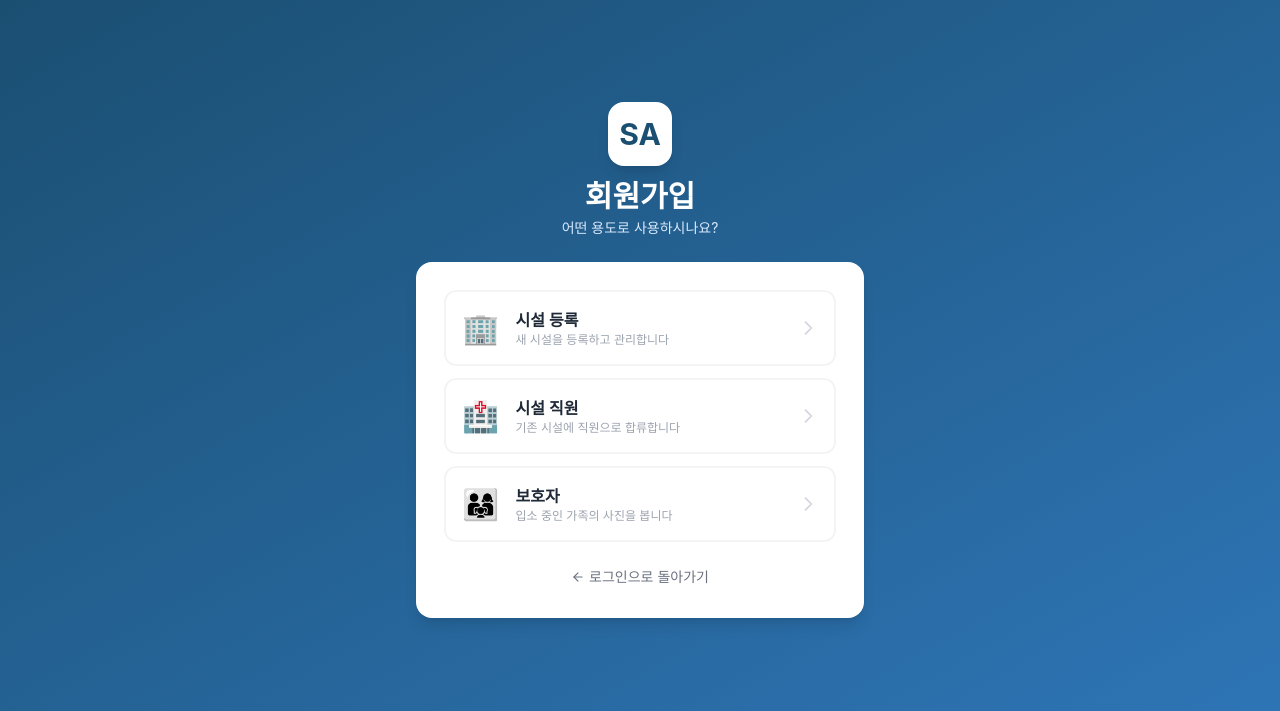
Test case: RegisterPage › Step 1 - 역할 선택 › 시설 등록 클릭 시 Step 2로 이동하며 시설 정보 폼이 나타난다
Click the text "시설 등록".
click(547, 320)  # box x1=515 y1=310 x2=578 y2=330
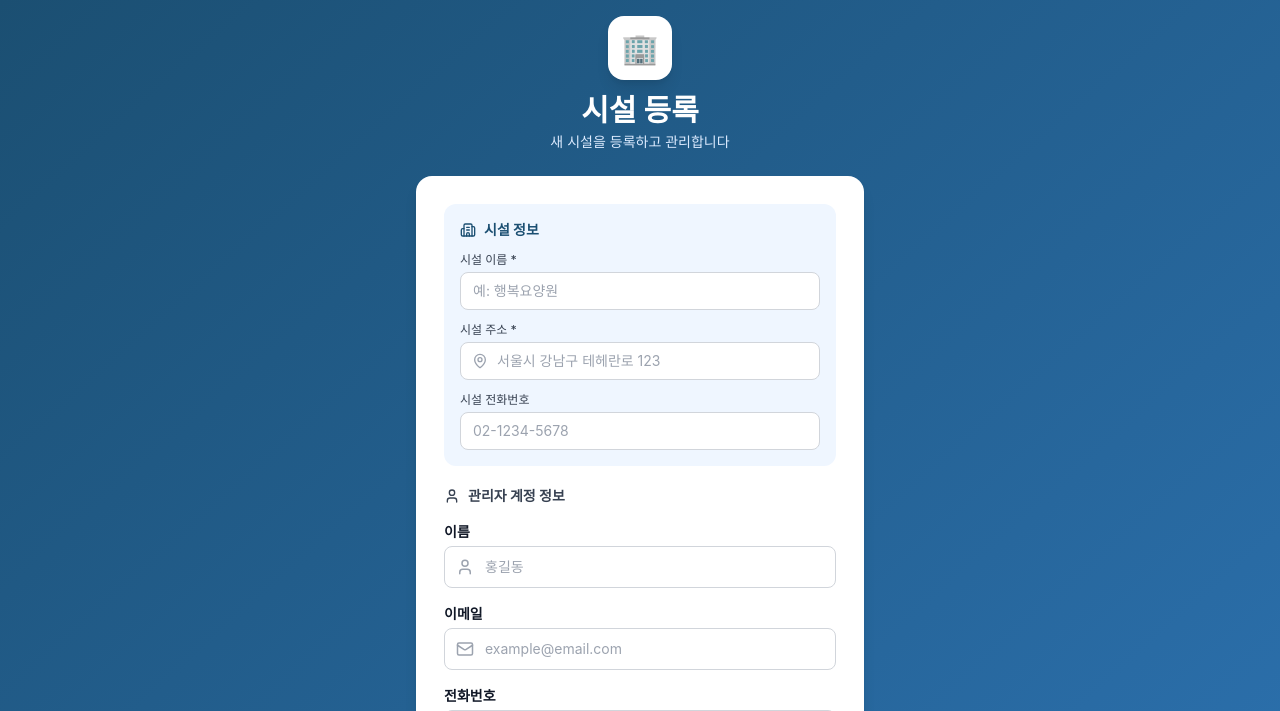
Expected: the heading "시설 정보" is shown, x1=460 y1=221 x2=539 y2=238
Expected: the field with placeholder "예: 행복요양원" is shown, x1=460 y1=272 x2=820 y2=310
